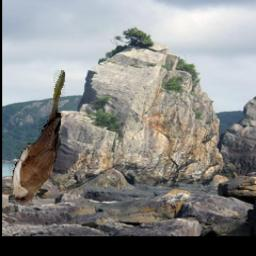Cuckoo: (7, 70, 65, 206)
